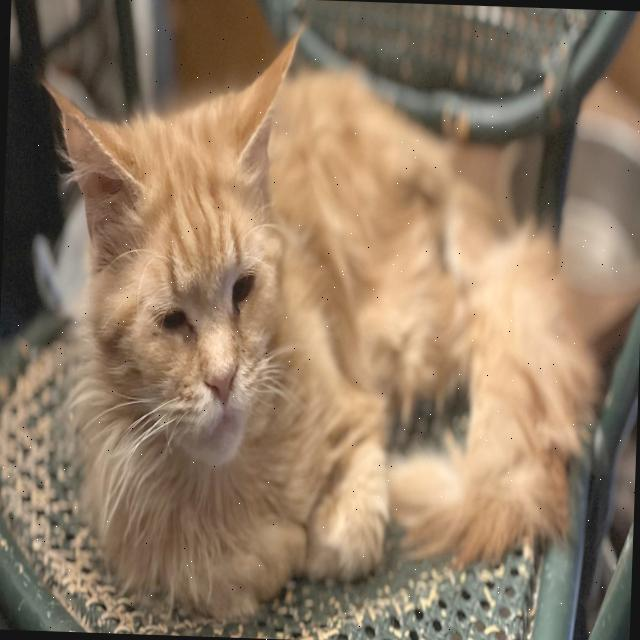maine_coon_cat: (25, 9, 308, 491)
